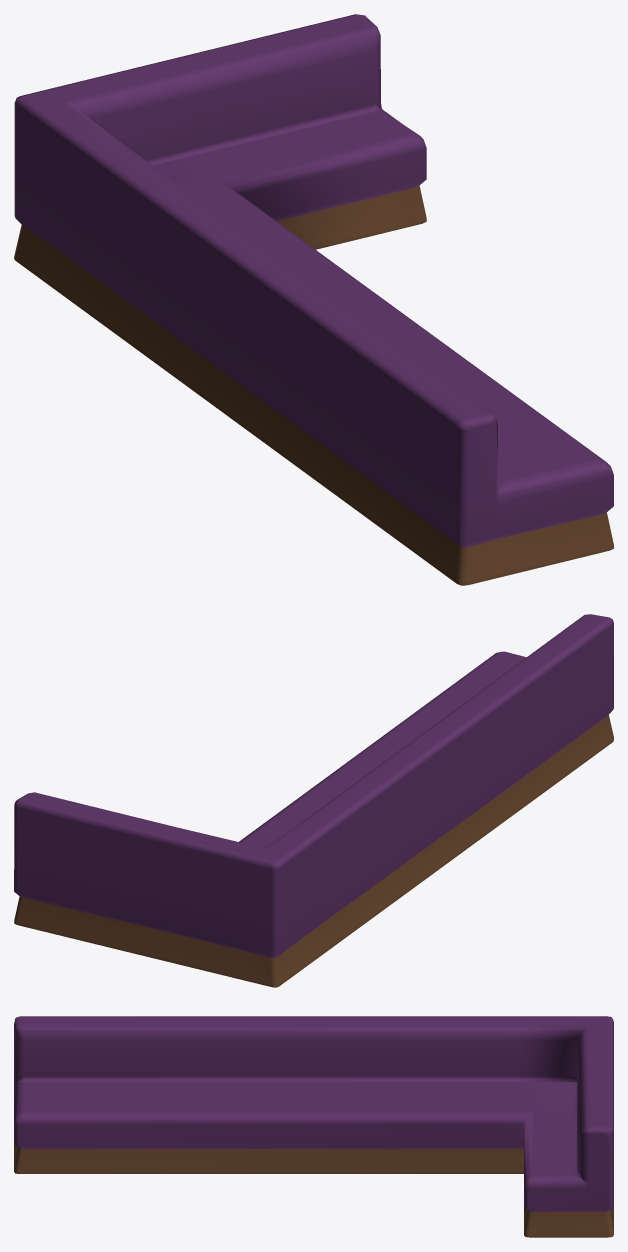
File: ME_SE_LoungeSofa.fbx
3 views of the same model, one above another, from view 1: azimuth 30°, elevation 25°; view 2: azimuth 150°, elevation 25°; view 3: azimuth 270°, elevation 25° (orthographic). The views are drawn at different scales.
Visible parts, largest first — view 1: ME_SE_LoungeSofa; view 2: ME_SE_LoungeSofa; view 3: ME_SE_LoungeSofa.
Part boxes in pixels (bbox=[...]): ME_SE_LoungeSofa: bbox=[14, 14, 613, 585]; ME_SE_LoungeSofa: bbox=[14, 614, 613, 987]; ME_SE_LoungeSofa: bbox=[14, 1016, 613, 1237].
Bounding box in the file's own units: 18009 × 8006 × 40009.
